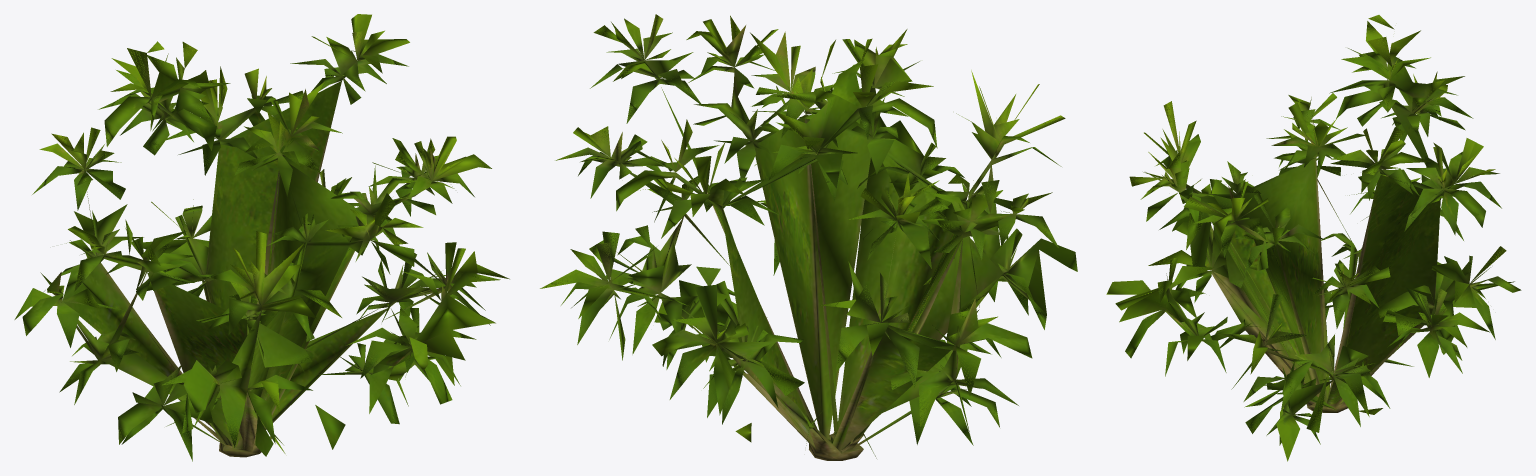
Rendered from VEG_ArbustoTropical_02_LOD2.fbx.
3 renders of one model, left to right at view 1: azimuth 30°, elevation 25°; view 2: azimuth 150°, elevation 25°; view 3: azimuth 270°, elevation 25°, orthographic. The views are drawn at different scales.
Parts seen in each view (by area): view 1: VEG_ArbustoTropical_02_Mesh000; view 2: VEG_ArbustoTropical_02_Mesh000; view 3: VEG_ArbustoTropical_02_Mesh000.
Boxes of the visible parts, x1,y1,x2,y2 form: VEG_ArbustoTropical_02_Mesh000: (14, 14, 509, 461); VEG_ArbustoTropical_02_Mesh000: (540, 14, 1077, 460); VEG_ArbustoTropical_02_Mesh000: (1106, 15, 1521, 461).
Size of the model in its own units: 1.57 by 1.4 by 1.44.
